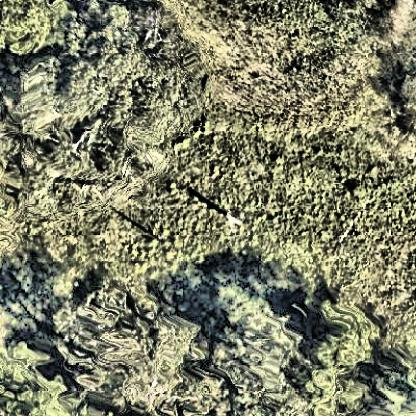tree-top: (59, 8, 203, 132), (56, 282, 192, 413), (209, 281, 306, 413), (305, 312, 381, 416), (3, 49, 67, 142), (1, 337, 66, 416), (1, 2, 79, 57)
